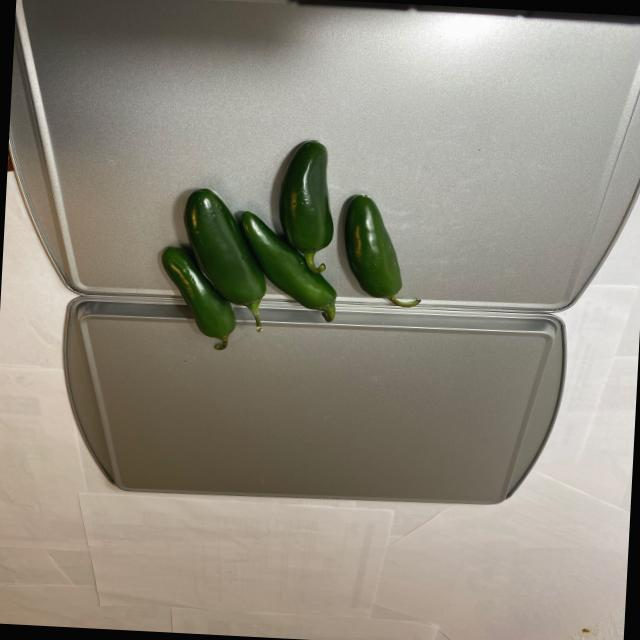chilli: (144, 131, 433, 366)
